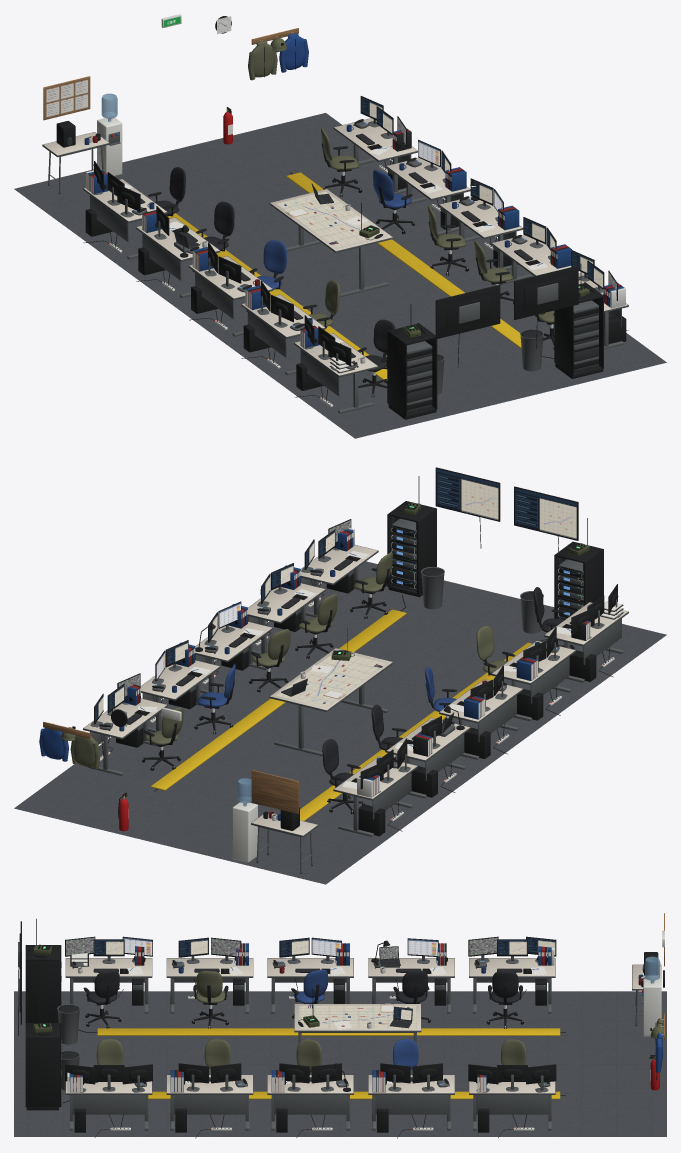
File: rdmss-fitout.glb
The picture shows the model from 3 angles, top to bottom: view 1: azimuth 30°, elevation 25°; view 2: azimuth 150°, elevation 25°; view 3: azimuth 270°, elevation 25°; orthographic projection. The views are drawn at different scales.
Visible parts, largest first — view 1: RDMSS_fitout; view 2: RDMSS_fitout; view 3: RDMSS_fitout.
Boxes of the visible parts, <box> form: RDMSS_fitout: <box>14,14,666,438</box>; RDMSS_fitout: <box>14,467,666,884</box>; RDMSS_fitout: <box>14,913,666,1138</box>.
Bounding box in the file's own units: 6.12 × 2.48 × 11.33.
45 materials, 17 textured.
